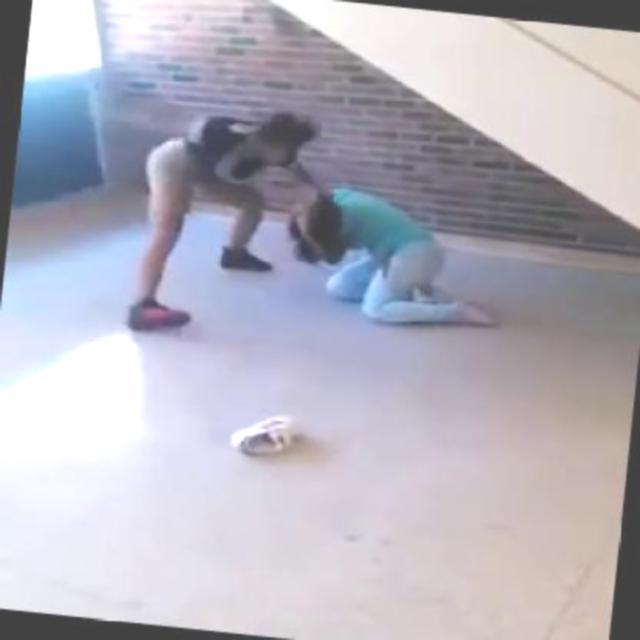fight: (115, 90, 517, 378)
